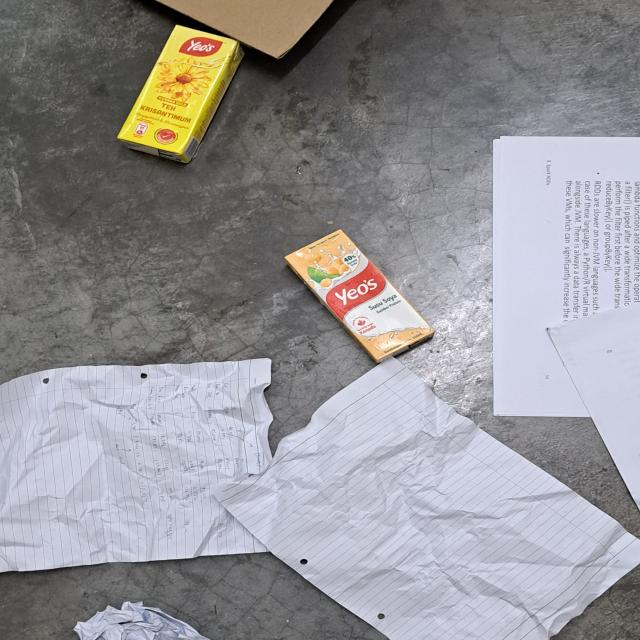cardboard: (146, 0, 343, 63)
drink carton: (279, 230, 436, 360), (120, 24, 246, 166)
paper: (209, 356, 640, 640), (0, 360, 277, 575), (489, 132, 640, 516), (69, 599, 207, 640)
